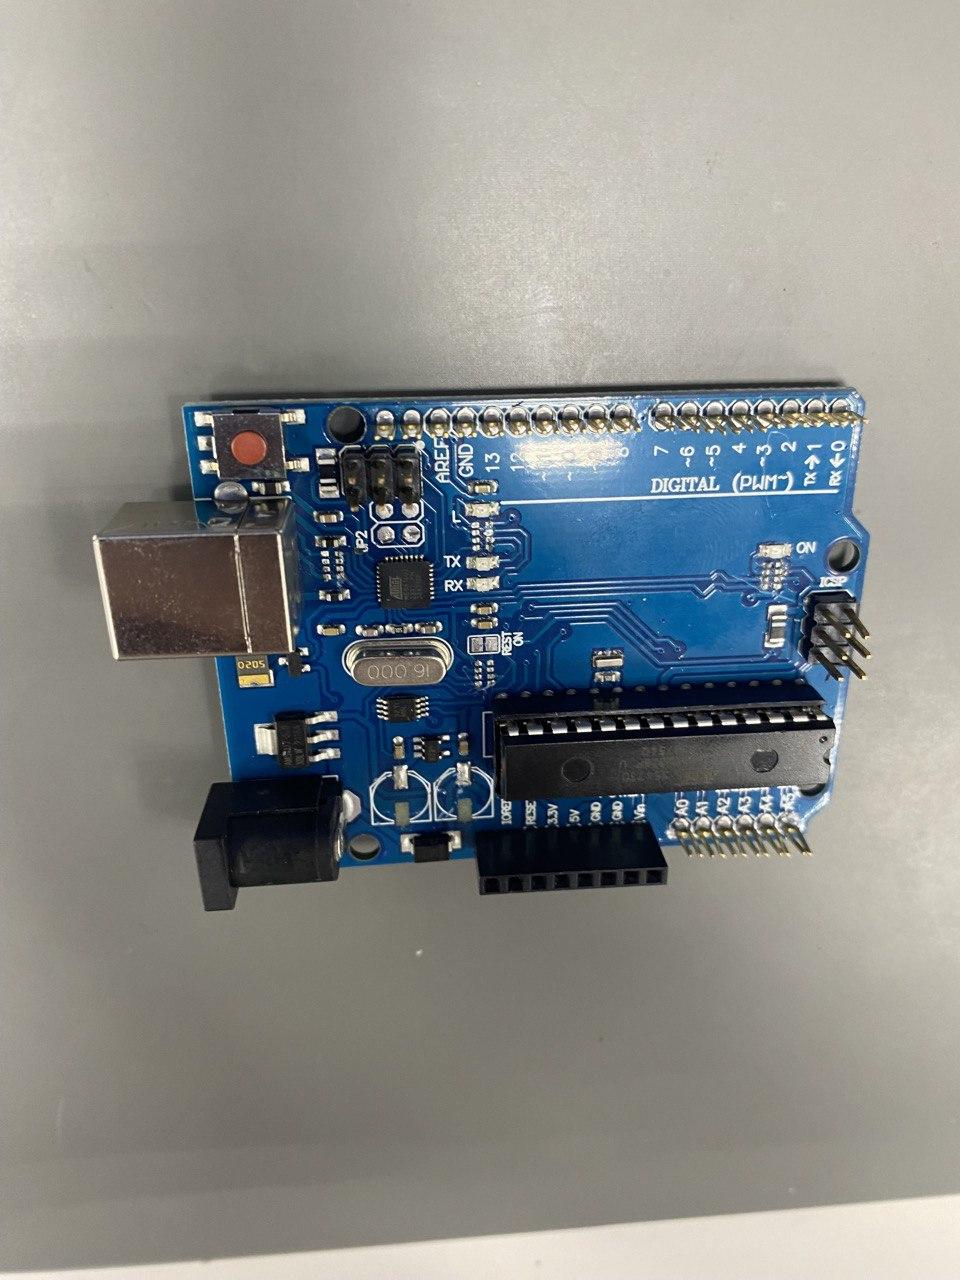ATmega328 chip: (494, 682, 836, 802)
Arduino board: (92, 387, 870, 912)
USB: (94, 496, 303, 661)
pins: (473, 822, 669, 895)
